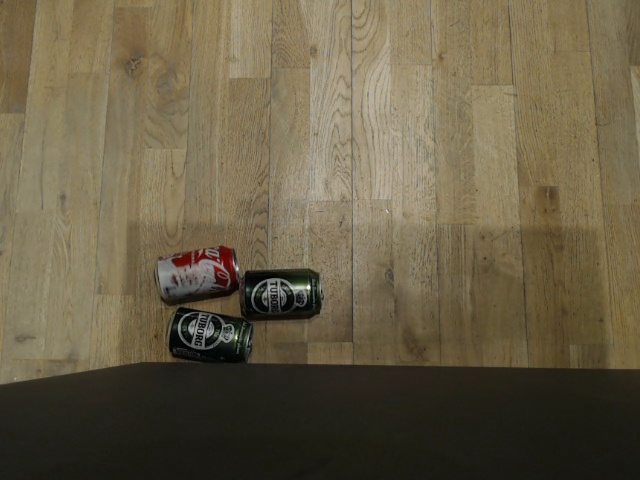beer: (241, 258, 328, 319), (160, 310, 255, 364)
cola: (149, 242, 242, 302)
